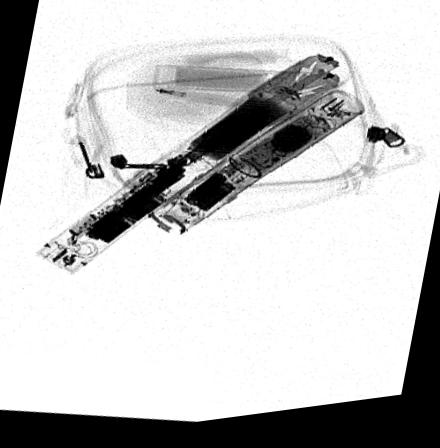Baton: (34, 61, 351, 278), (148, 100, 364, 239)
